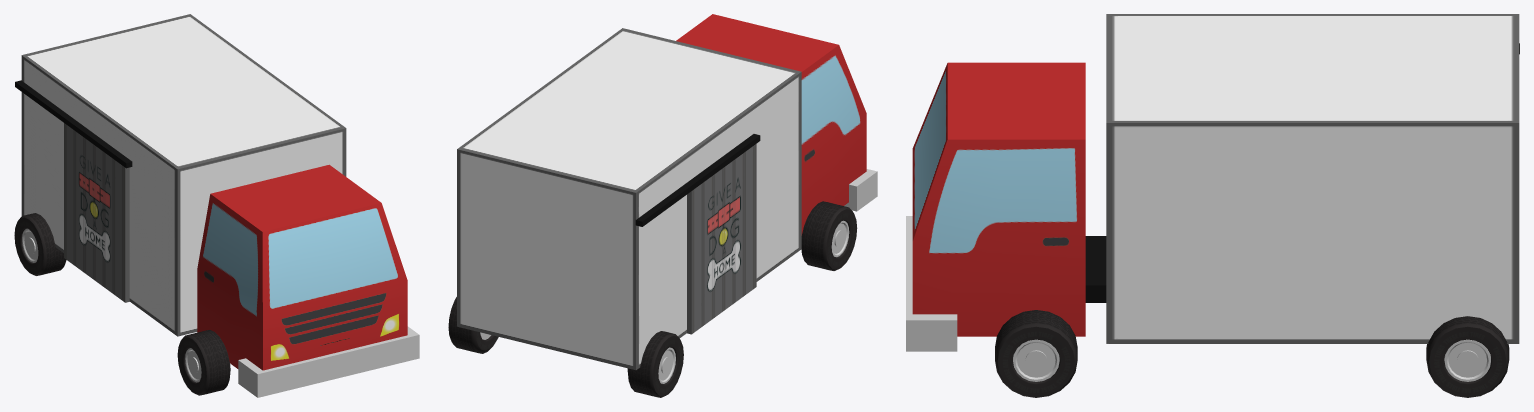
Rendered from Truck-Moving.fbx.
3 views of the same model, side by side, from view 1: azimuth 30°, elevation 25°; view 2: azimuth 150°, elevation 25°; view 3: azimuth 270°, elevation 25° (orthographic). The views are drawn at different scales.
Visible parts, largest first — view 1: pCube1, pCube4, pCube2, pCube6, pCylinder4, pCylinder8, pCube3, pCylinder3 (×2); view 2: pCube1, pCube4, pCube2, pCylinder4 (×2), pCylinder8, pCube3, pCylinder3 (×2), pCube6; view 3: pCube1, pCube4, pCylinder4 (×2), pCube6, pCylinder3, pCylinder7, pCube5.
Boxes of the visible parts, x1,y1,x2,y2 form: pCube1: (21,14,346,336); pCube4: (197,164,407,370); pCube2: (64,123,129,302); pCube6: (238,326,419,397); pCylinder4: (177,330,230,395); pCylinder8: (14,213,66,275); pCube3: (15,80,132,168); pCylinder3 (×2): (22,228,201,382); pCube1: (457,28,801,370); pCube4: (676,14,866,235); pCube2: (687,144,756,334); pCylinder4 (×2): (448,201,857,353); pCylinder8: (627,331,683,397); pCube3: (635,134,760,226); pCylinder3 (×2): (658,220,849,383); pCube6: (844,169,877,211); pCube1: (1106,14,1519,343); pCube4: (912,62,1085,336); pCylinder4 (×2): (995,310,1509,397); pCube6: (906,216,957,351); pCylinder3: (1013,339,1059,381); pCylinder7: (1444,339,1490,381); pCube5: (1085,236,1106,302).
Size of the model in its own units: 7.13 by 7.15 by 14.84.
Materials: 6 (4 with a texture image).
